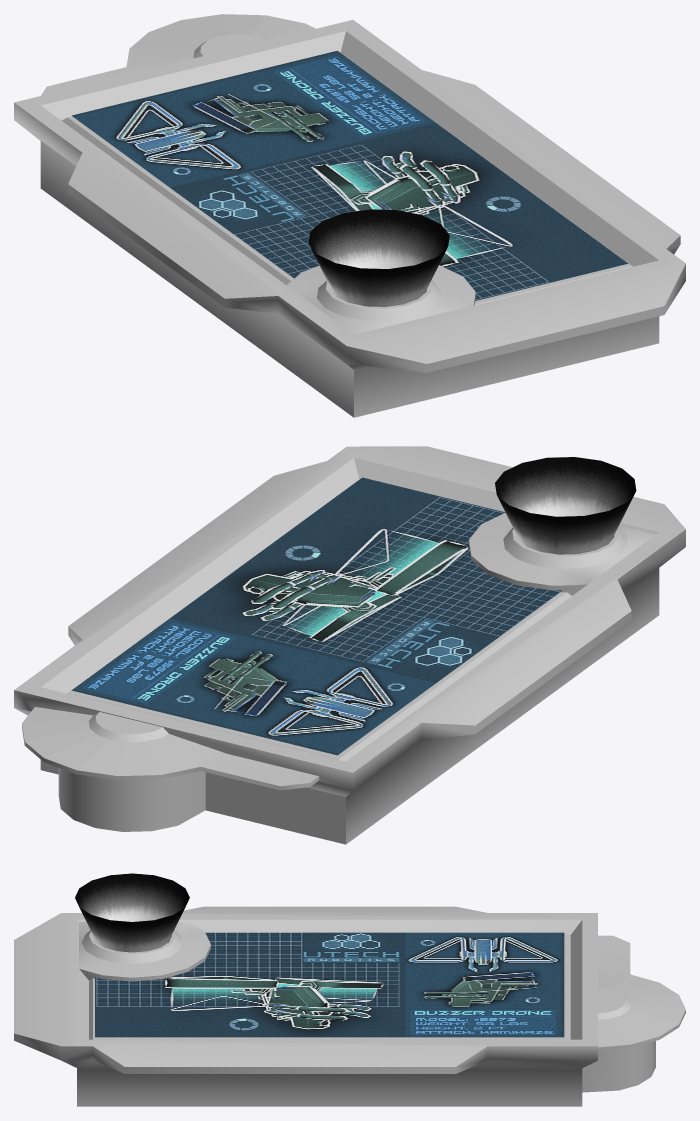
The model's file is DesignTableBuzzer.fbx.
The picture shows the model from 3 angles, top to bottom: view 1: azimuth 30°, elevation 25°; view 2: azimuth 150°, elevation 25°; view 3: azimuth 270°, elevation 25°; orthographic projection. The views are drawn at different scales.
Visible parts, largest first — view 1: polySurface6, pPlane1, polySurface7; view 2: polySurface6, pPlane1, polySurface7; view 3: polySurface6, pPlane1, polySurface7.
Boxes of the visible parts, left/top/right/bottom form: polySurface6: left=14, top=14, right=685, bottom=417; pPlane1: left=72, top=50, right=627, bottom=300; polySurface7: left=308, top=209, right=449, bottom=306; polySurface6: left=14, top=446, right=685, bottom=844; pPlane1: left=71, top=477, right=562, bottom=755; polySurface7: left=495, top=457, right=636, bottom=554; polySurface6: left=14, top=906, right=685, bottom=1106; pPlane1: left=95, top=932, right=564, bottom=1037; polySurface7: left=75, top=873, right=189, bottom=952.
Size of the model in its own units: 7.76 by 2.54 by 13.76.
